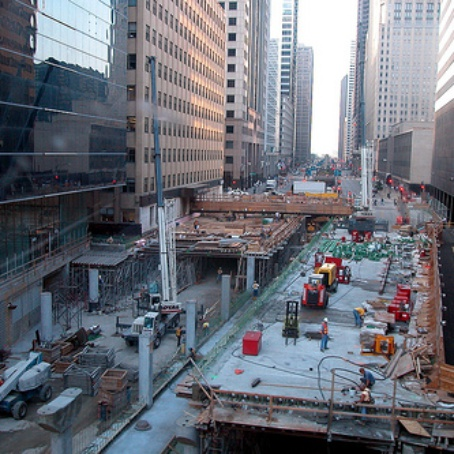building: (1, 2, 132, 299), (137, 1, 227, 201), (345, 1, 437, 167), (225, 1, 272, 183)
